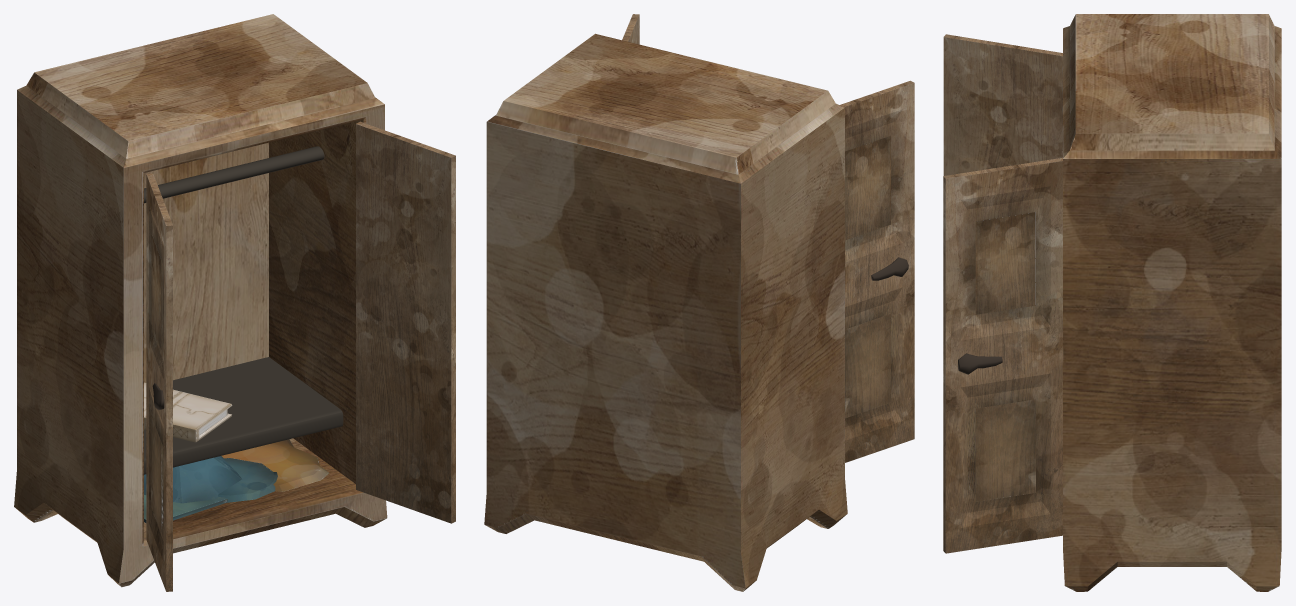
Rendered from garde_robe_ouverte.fbx.
3 views of the same model, side by side, from view 1: azimuth 30°, elevation 25°; view 2: azimuth 150°, elevation 25°; view 3: azimuth 270°, elevation 25° (orthographic). The views are drawn at different scales.
Parts seen in each view (by area): view 1: garde_robe, porte_g (×2), etage, support, pDisc3, pDisc2, livre, pDisc1, pCube1; view 2: garde_robe, porte_g; view 3: garde_robe, porte_g (×2), poigne.
Boxes of the visible parts, x1,y1,x2,y2 form: garde_robe: (14, 14, 387, 587); porte_g (×2): (146, 121, 455, 591); etage: (144, 357, 343, 474); support: (144, 146, 324, 203); pDisc3: (221, 439, 328, 491); pDisc2: (144, 456, 241, 503); livre: (144, 382, 232, 442); pDisc1: (218, 458, 277, 502); pCube1: (144, 495, 227, 522); garde_robe: (484, 33, 847, 591); porte_g: (840, 80, 914, 462); garde_robe: (1063, 14, 1281, 591); porte_g (×2): (943, 34, 1062, 553); poigne: (958, 353, 1002, 374).
Bounding box in the file's own units: 7.59 × 11.04 × 7.44.
